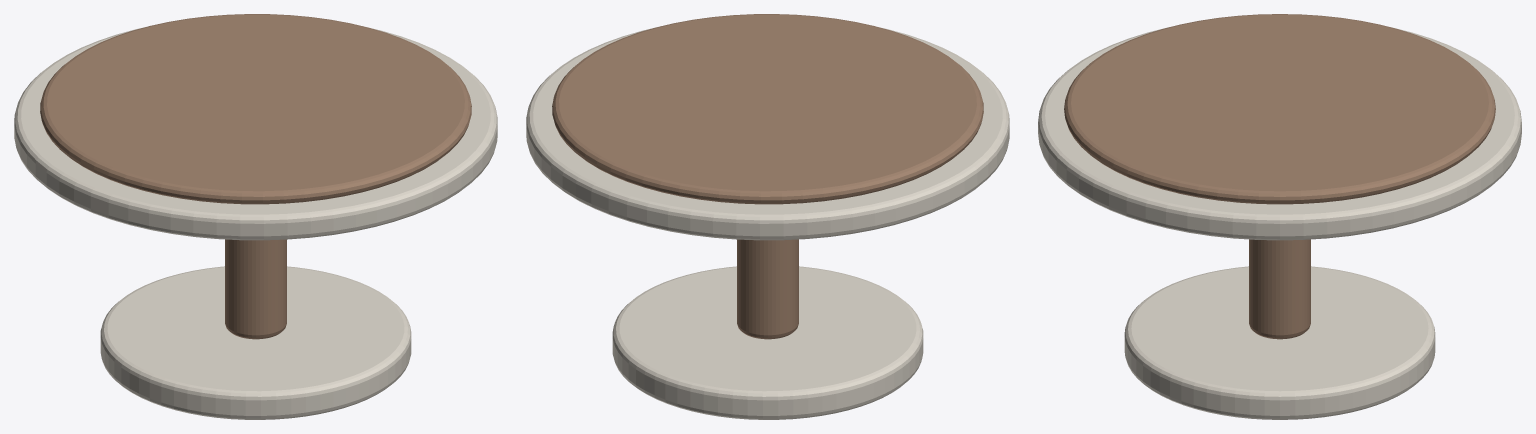
The model's file is cafe-cake-stand-01.glb.
3 views of the same model, side by side, from view 1: azimuth 30°, elevation 25°; view 2: azimuth 150°, elevation 25°; view 3: azimuth 270°, elevation 25° (orthographic).
Visible parts, largest first — view 1: cafe-cake-stand-01; view 2: cafe-cake-stand-01; view 3: cafe-cake-stand-01.
Boxes of the visible parts, x1,y1,x2,y2 form: cafe-cake-stand-01: (14,14,497,419); cafe-cake-stand-01: (526,14,1009,419); cafe-cake-stand-01: (1038,14,1521,419).
Bounding box in the file's own units: 0.28 × 0.162 × 0.28.
